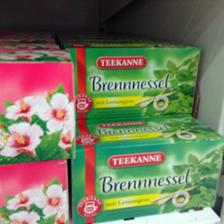Tee: (71, 118, 223, 222), (62, 38, 200, 118)
